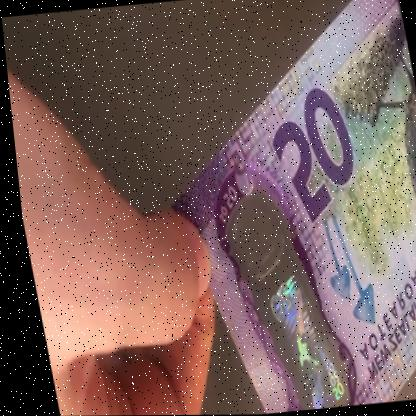50B: (222, 198, 341, 413)
